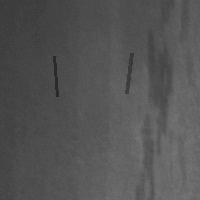inclusion: (133, 3, 178, 197), (124, 51, 133, 95), (52, 54, 59, 98)
